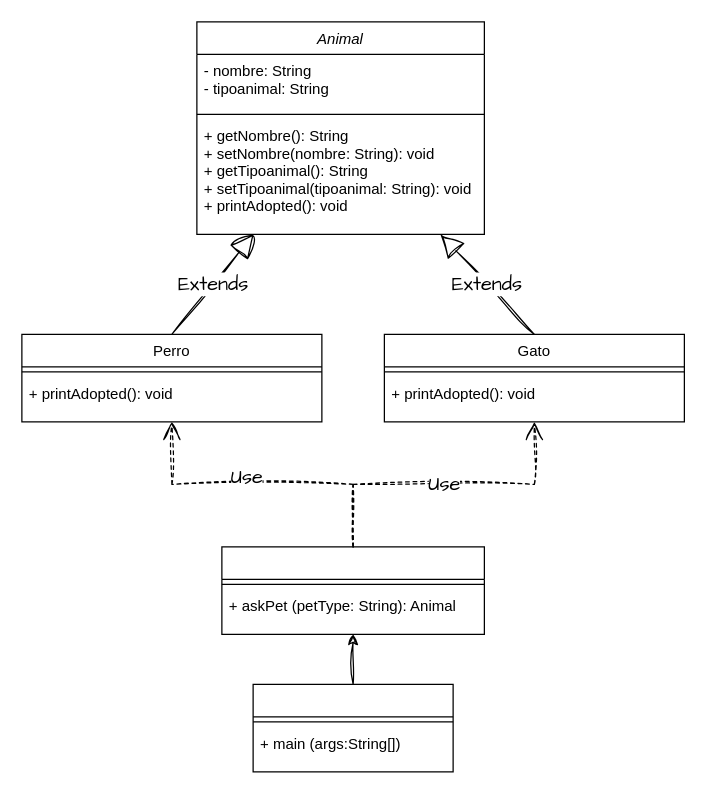
Image size: 706x794. Some labels were removed from this diagram. Each missing label, with the box of its shape:
adoptionFactory: (221, 546, 484, 634)
UI: (252, 683, 453, 772)
